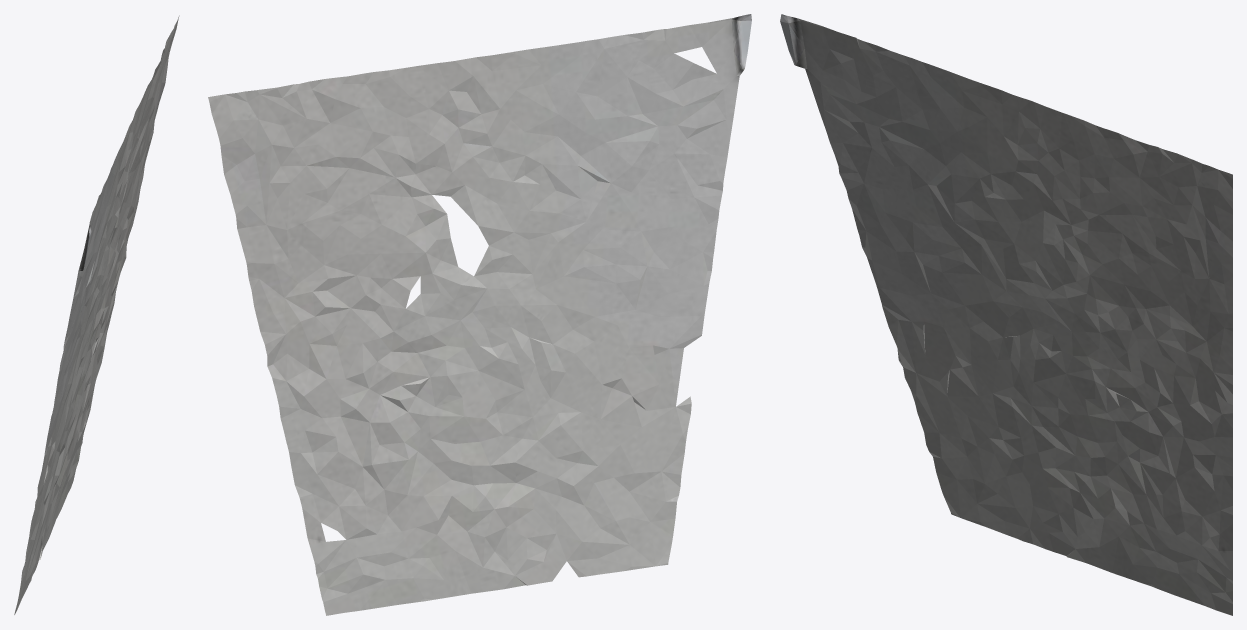
3 views of the same model, side by side, from view 1: azimuth 30°, elevation 25°; view 2: azimuth 150°, elevation 25°; view 3: azimuth 270°, elevation 25° (orthographic). The views are drawn at different scales.
Bounding box in the file's own units: 0.5762 × 0.8374 × 0.6869.
Materials: 3 (3 with a texture image).
